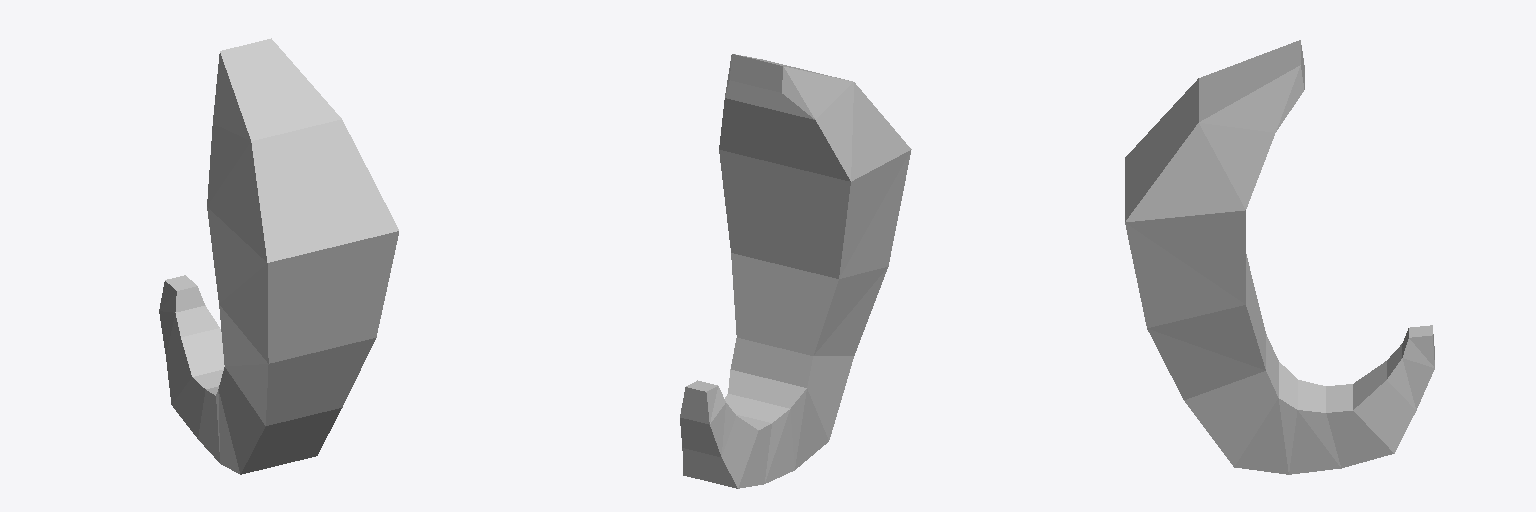
The model's file is timesymbol.obj.
The picture shows the model from 3 angles: view 1: azimuth 30°, elevation 25°; view 2: azimuth 150°, elevation 25°; view 3: azimuth 270°, elevation 25°; orthographic projection.
Visible parts, largest first — view 1: Cube_Cube.001; view 2: Cube_Cube.001; view 3: Cube_Cube.001.
Part boxes in pixels (left/top/right/bottom): Cube_Cube.001: left=159, top=38, right=398, bottom=474; Cube_Cube.001: left=680, top=54, right=911, bottom=488; Cube_Cube.001: left=1125, top=40, right=1434, bottom=474.
Size of the model in its own units: 0.3385 by 0.997 by 0.6884.